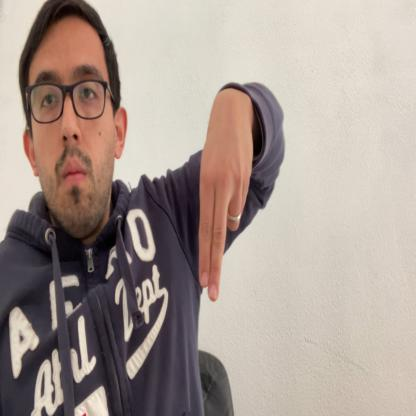N: (197, 92, 254, 304)
